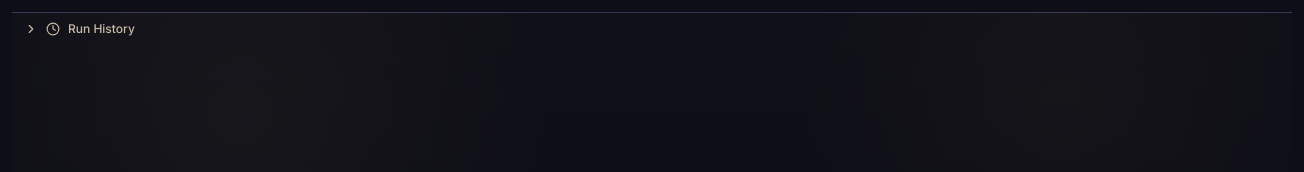
Test: PipelineRunHistory › shows the loading state while the query is in flight
The image size is (1304, 172).
Later steps or results of the test are not shown.
Click the button "Run History": (101,28) [12,13,1292,45]
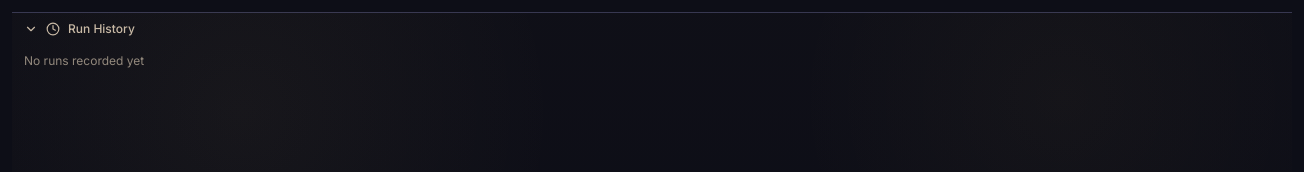
Expected: the text "No runs recorded yet" is shown, [24,53,144,68]
